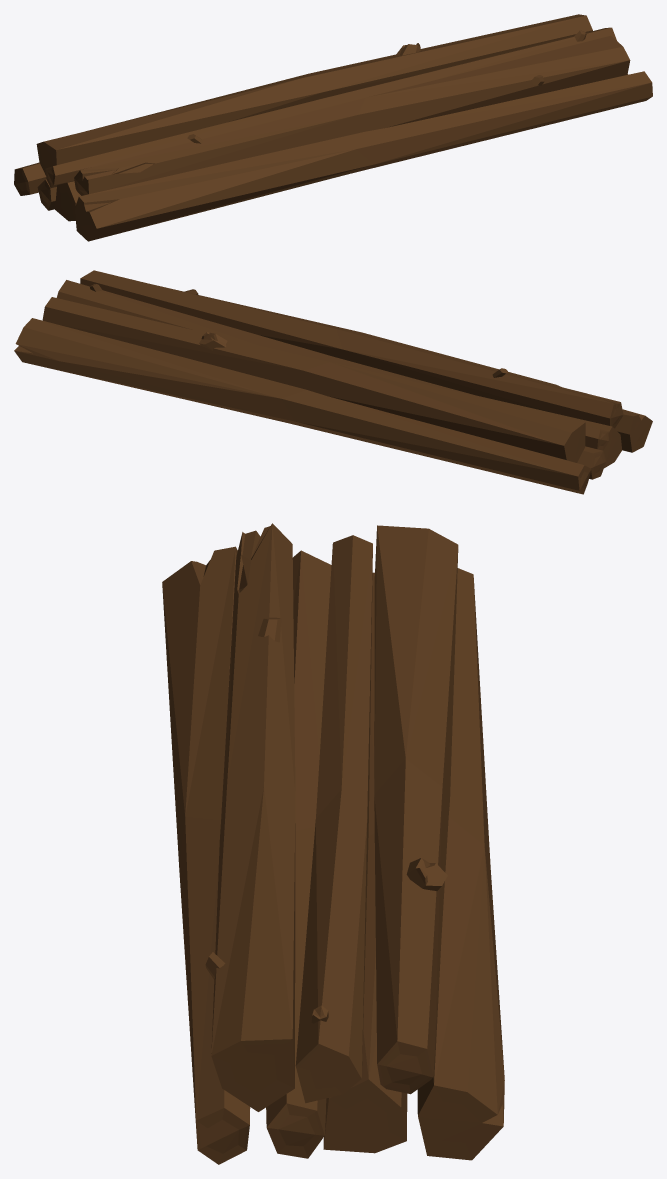
File: tree-beech-log-pile-a.gltf
3 renders of one model, top to bottom at view 1: azimuth 30°, elevation 25°; view 2: azimuth 150°, elevation 25°; view 3: azimuth 270°, elevation 25°, orthographic. The views are drawn at different scales.
Visible parts, largest first — view 1: tree-beech-log-pile-a; view 2: tree-beech-log-pile-a; view 3: tree-beech-log-pile-a.
Part boxes in pixels (box(x1,y1,x2,y2)): tree-beech-log-pile-a: box(14, 14, 652, 241); tree-beech-log-pile-a: box(14, 270, 652, 494); tree-beech-log-pile-a: box(162, 523, 504, 1164).
Size of the model in its own units: 0.0467 by 0.00535 by 0.0123.
